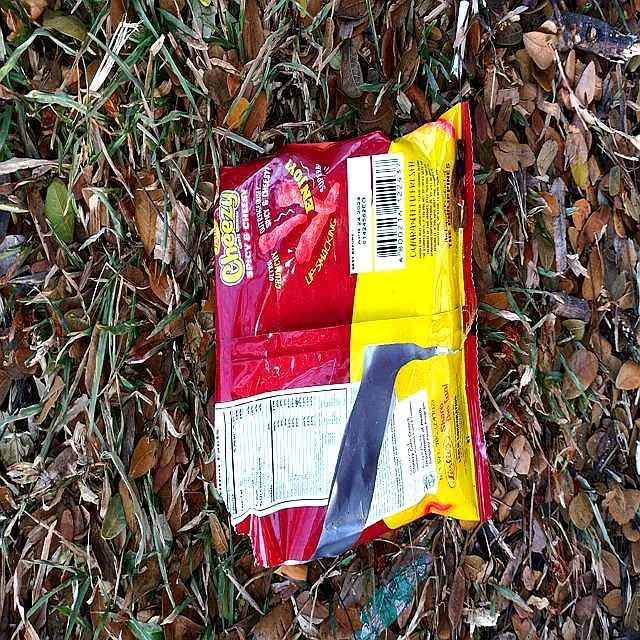Non-biodegradable: (209, 101, 490, 568)
